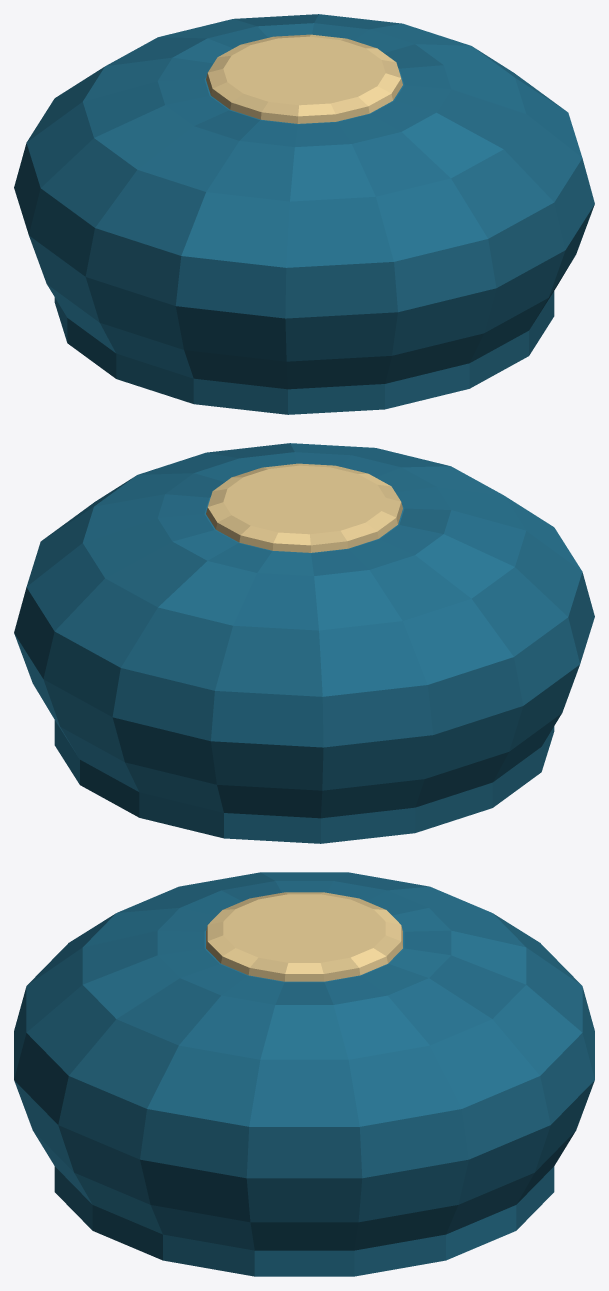
Rendered from QR_BluntCap.fbx.
3 renders of one model, top to bottom at view 1: azimuth 30°, elevation 25°; view 2: azimuth 150°, elevation 25°; view 3: azimuth 270°, elevation 25°, orthographic.
Visible parts, largest first — view 1: QR_BluntCap; view 2: QR_BluntCap; view 3: QR_BluntCap.
Boxes of the visible parts, x1,y1,x2,y2 form: QR_BluntCap: [14, 14, 594, 414]; QR_BluntCap: [14, 443, 594, 843]; QR_BluntCap: [14, 872, 594, 1276].
Size of the model in its own units: 0.9121 by 0.42 by 0.9121.
2 materials, 2 textured.
